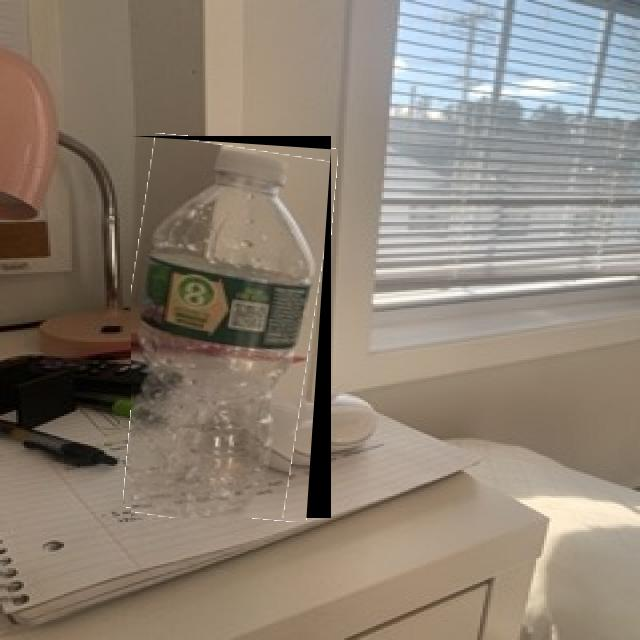water_bottle: (131, 136, 331, 518)
